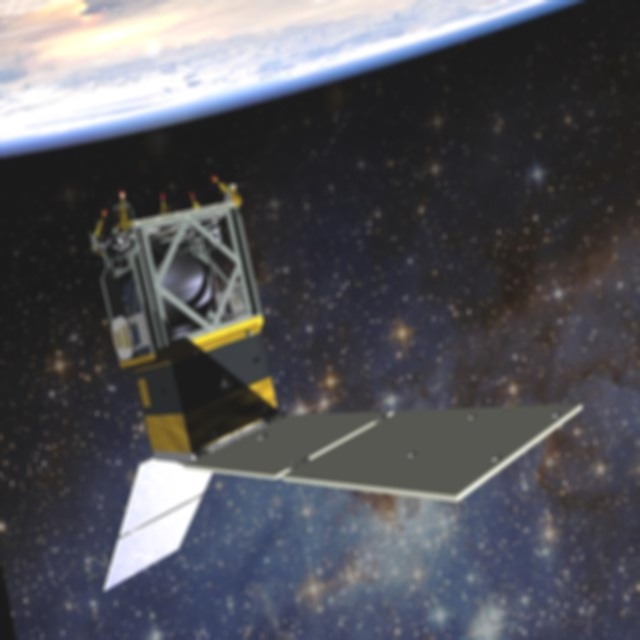satellite: (84, 171, 593, 604)
